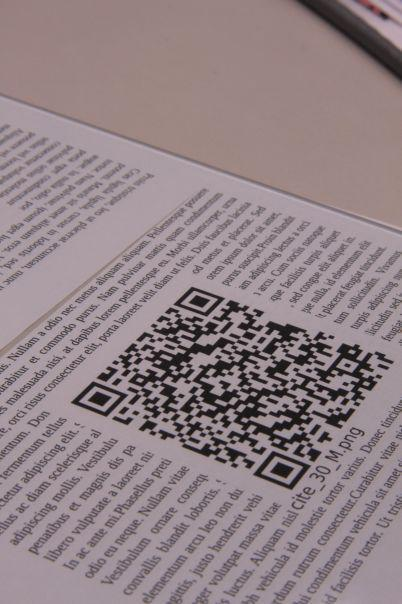qr_code: (71, 286, 395, 491)
